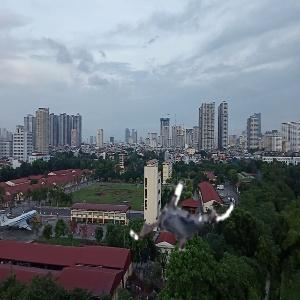drone: (129, 168, 236, 275)
